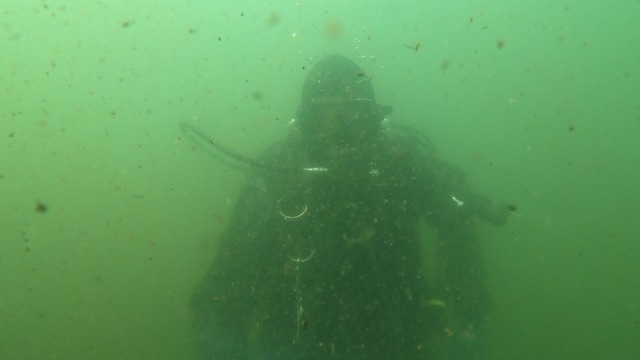Diver: (161, 22, 542, 357)
Head: (285, 46, 404, 179)
